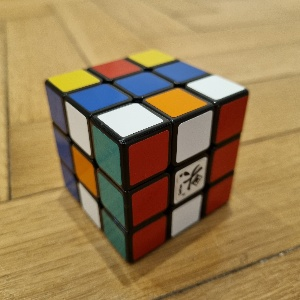cube: (45, 48, 251, 268)
